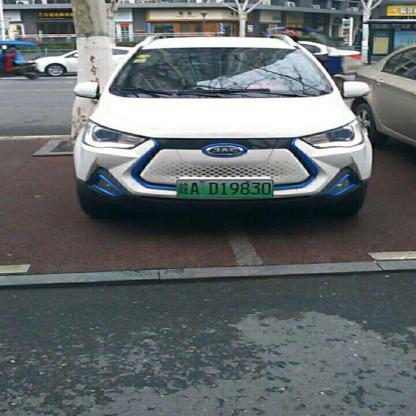lp: (176, 179, 273, 197)
